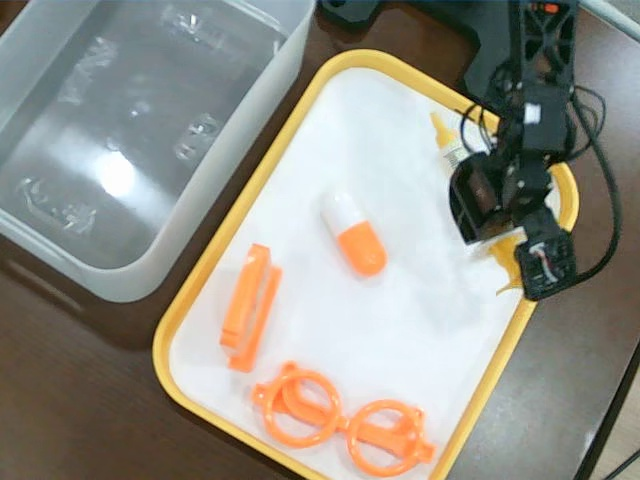pill: (319, 187, 388, 280)
